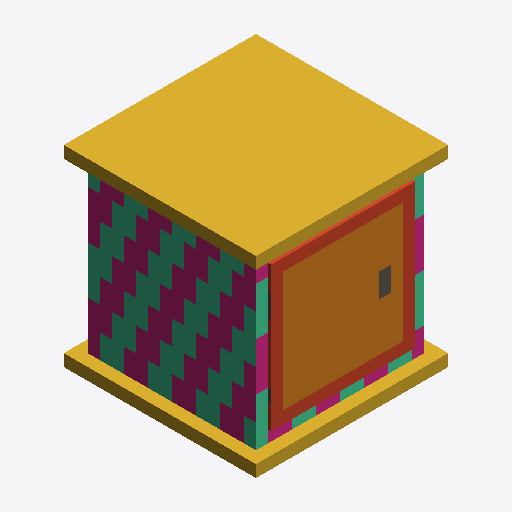
Isometric view (azimuth 45°, elevation 35.3°) of a Minecraft model made of 5 cuboids, textured from the same repository.
Visible parts, largest first — element 2, element 3, element 4, element 1.
Boxes of the visible parts, <box> form: element 2: <box>64,34,447,269</box>; element 3: <box>88,173,423,449</box>; element 4: <box>268,180,414,430</box>; element 1: <box>64,339,447,477</box>.
Bounding box in the file's own units: 16 × 16 × 16.